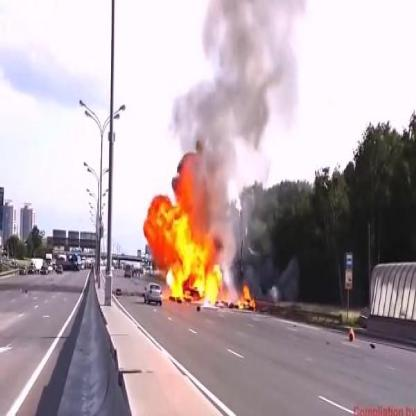fire: (141, 147, 260, 311)
